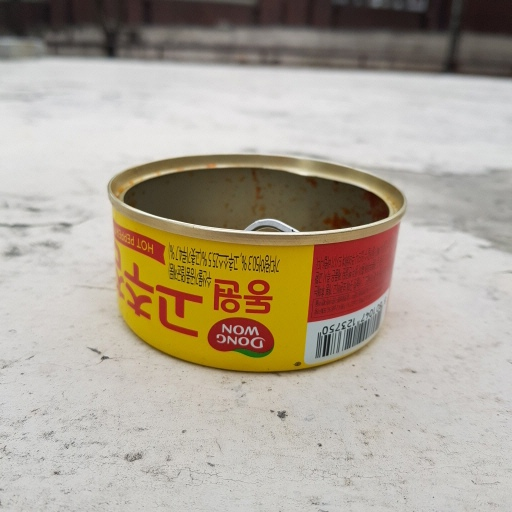Metal_1: (104, 147, 408, 375)
